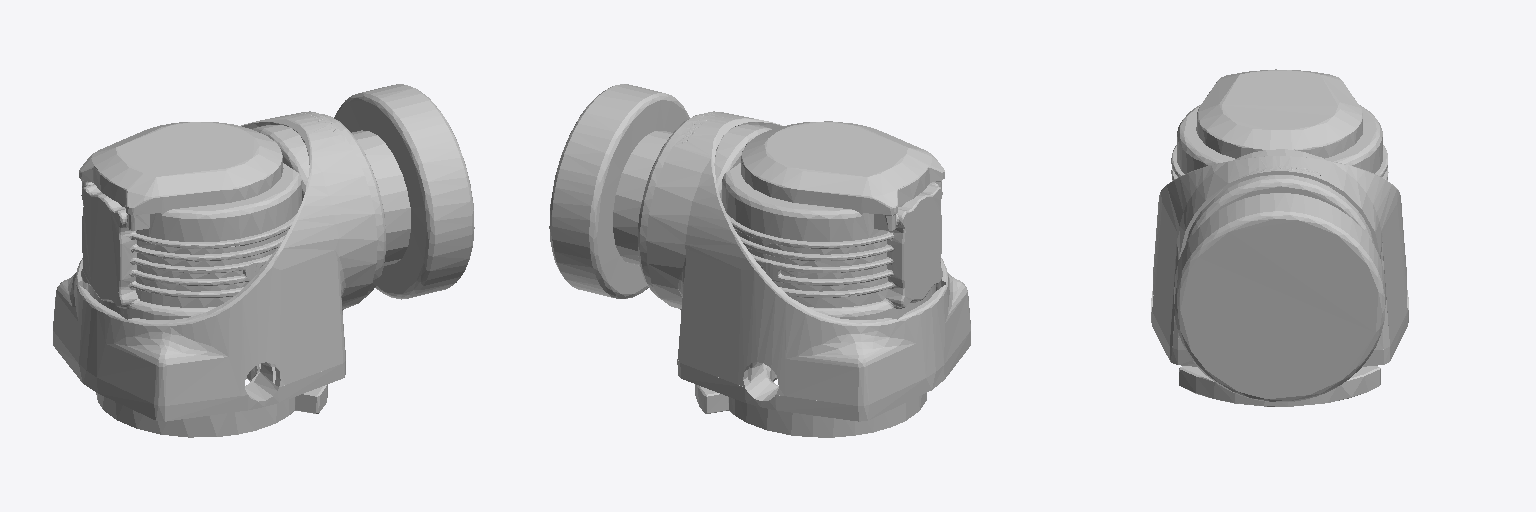
The model's file is rear_right_hip.obj.
The picture shows the model from 3 angles: view 1: azimuth 30°, elevation 25°; view 2: azimuth 150°, elevation 25°; view 3: azimuth 270°, elevation 25°; orthographic projection.
Parts seen in each view (by area): view 1: rear_right_hip_02-042137-001-A00_TOP_LEVEL_DEFEATURED_-_NOT_FOR_; view 2: rear_right_hip_02-042137-001-A00_TOP_LEVEL_DEFEATURED_-_NOT_FOR_; view 3: rear_right_hip_02-042137-001-A00_TOP_LEVEL_DEFEATURED_-_NOT_FOR_.
Boxes of the visible parts, x1=… form: rear_right_hip_02-042137-001-A00_TOP_LEVEL_DEFEATURED_-_NOT_FOR_: x1=53, y1=84, x2=474, y2=437; rear_right_hip_02-042137-001-A00_TOP_LEVEL_DEFEATURED_-_NOT_FOR_: x1=549, y1=84, x2=970, y2=437; rear_right_hip_02-042137-001-A00_TOP_LEVEL_DEFEATURED_-_NOT_FOR_: x1=1151, y1=69, x2=1408, y2=406.
Size of the model in its own units: 0.1417 by 0.1001 by 0.0941.